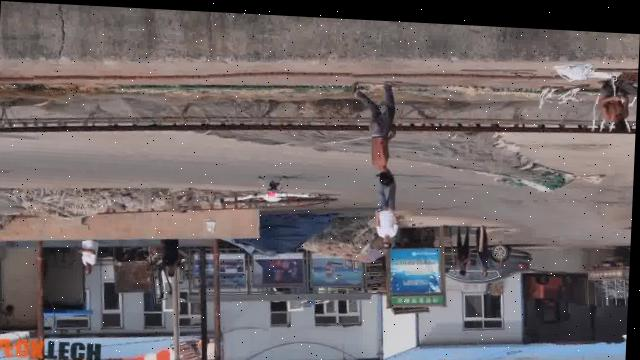drone: (232, 170, 320, 209)
